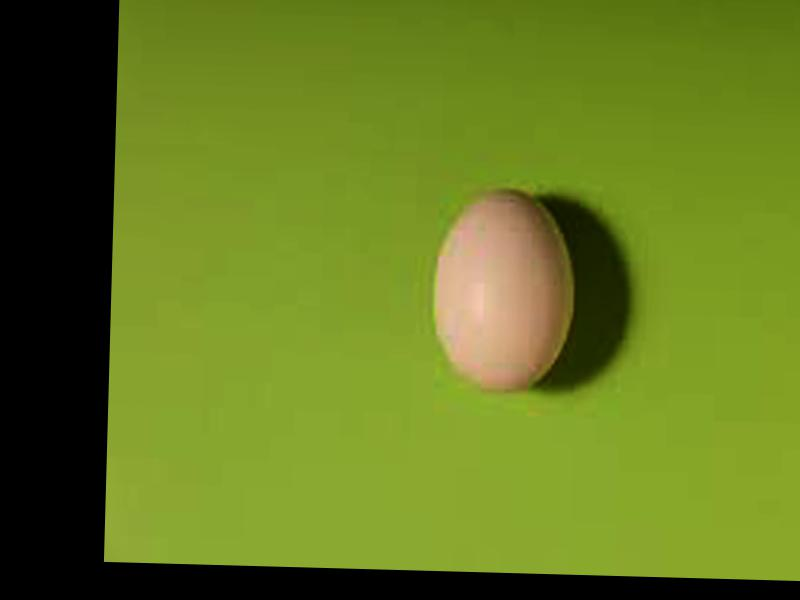Eggs: (435, 183, 577, 393)
